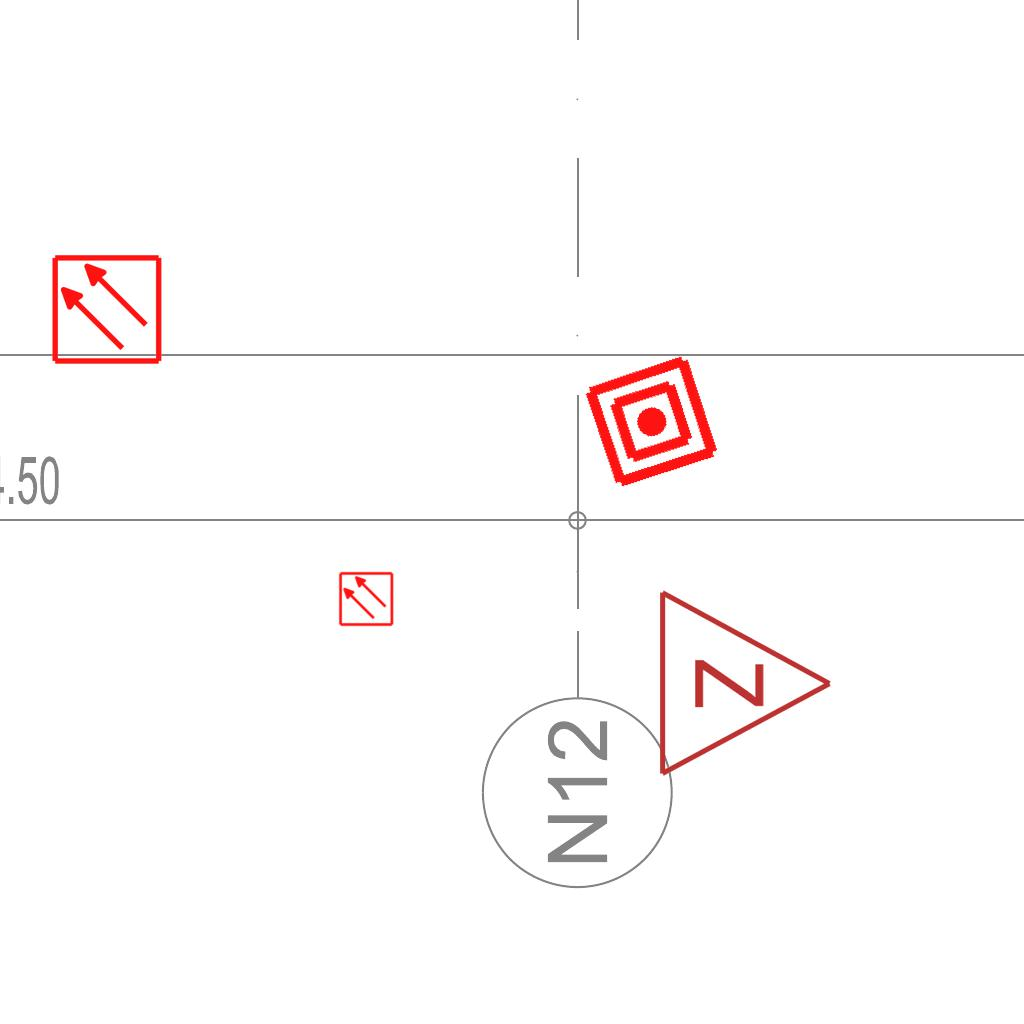NAM-Nichtautomatischer_Melder: (580, 350, 723, 493)
RMO_Rauchmelder_optischer: (50, 253, 163, 366), (338, 571, 394, 627)
Zimmersignalleuchte: (645, 583, 845, 779)
